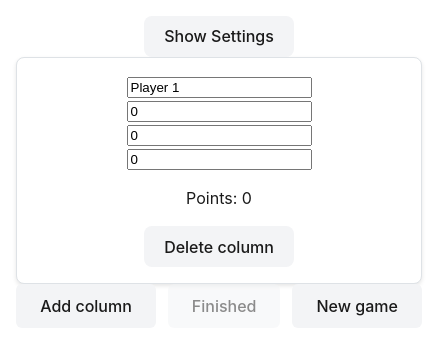
Test: PointsCalculator › updates points when input changes
Replace the text in the number field named "Round 1 Points for Player 1" with "5": (219, 112) [126,101,312,122]
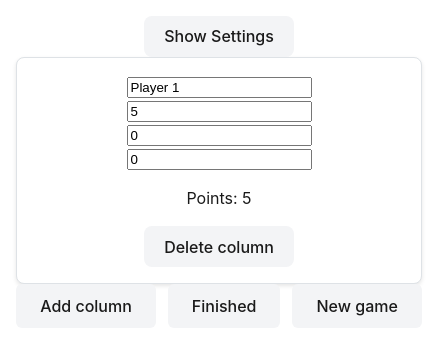
Expected: the text "Points: 5" is shown, [186,188,252,208]
